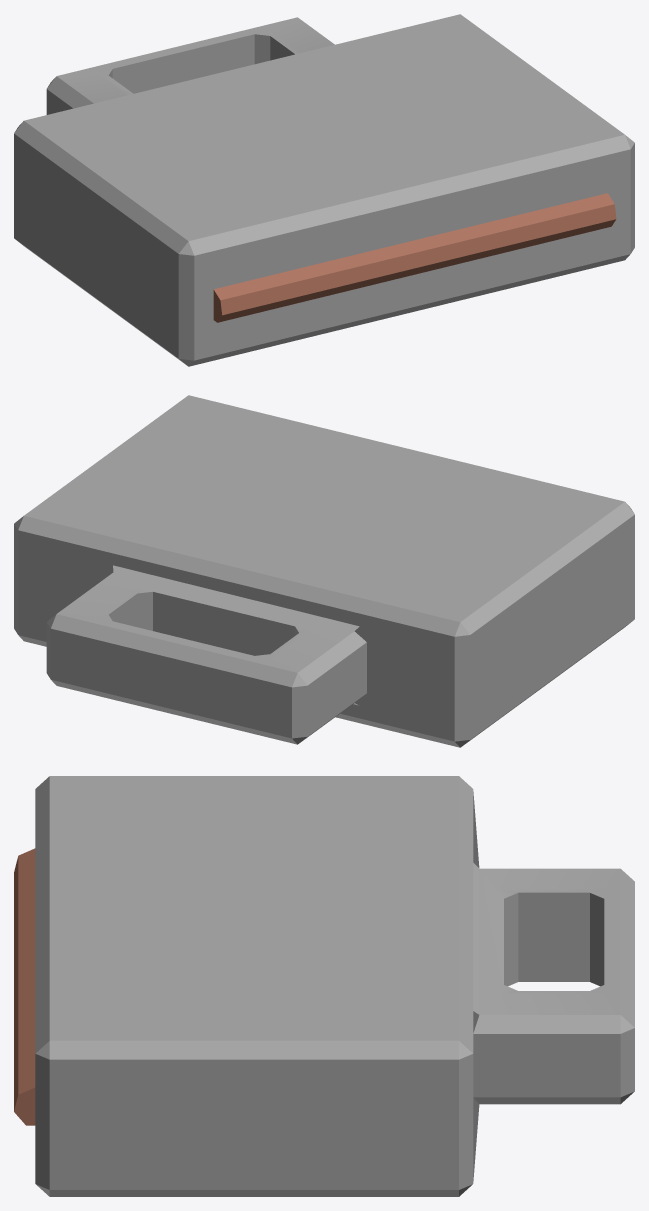
Rendered from MedkitClosed.fbx.
3 views of the same model, one above another, from view 1: azimuth 30°, elevation 25°; view 2: azimuth 150°, elevation 25°; view 3: azimuth 270°, elevation 25° (orthographic). The views are drawn at different scales.
Visible parts, largest first — view 1: pCube191; view 2: pCube191; view 3: pCube191.
Boxes of the visible parts, box(x1,y1,x2,y2) form: pCube191: box(14, 14, 634, 366); pCube191: box(14, 395, 634, 747); pCube191: box(14, 776, 634, 1196).
Size of the model in its own units: 213 by 56.03 by 202.
